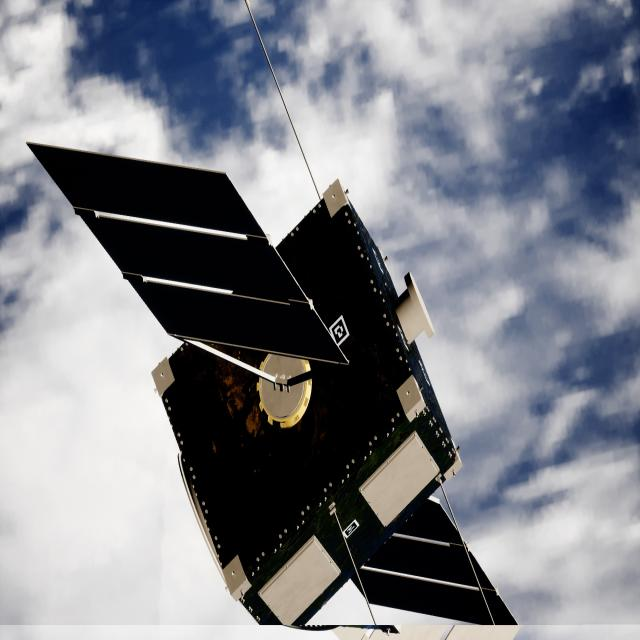satellite: (28, 144, 515, 631)
